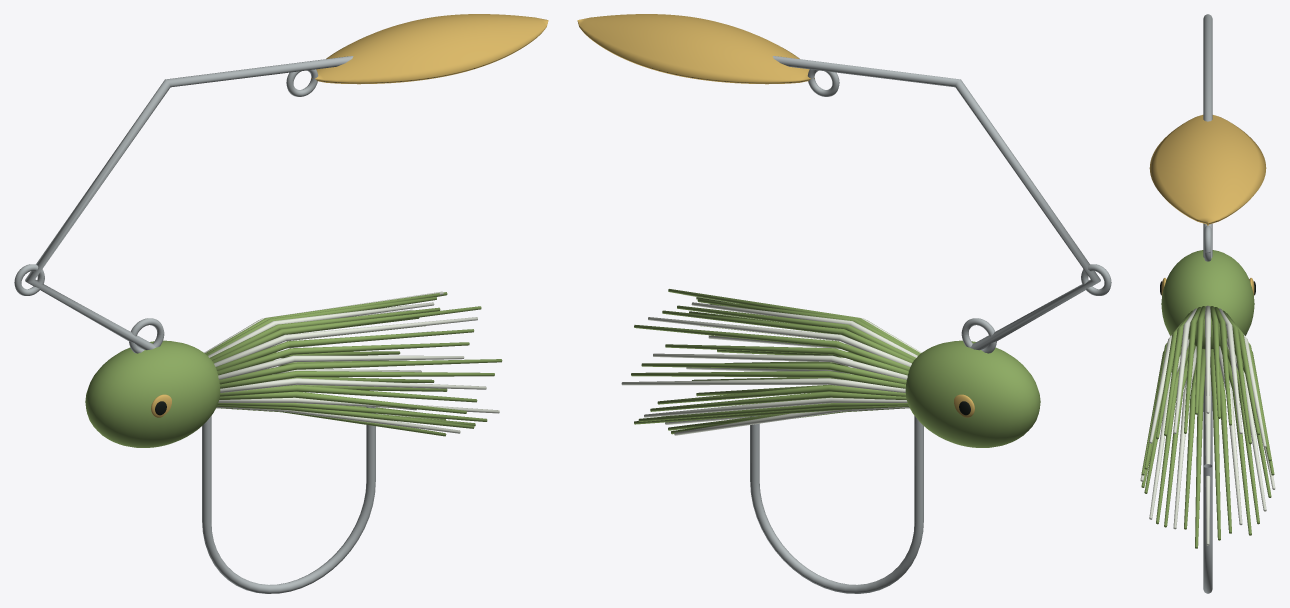
The model's file is spinnerbait.glb.
The picture shows the model from 3 angles, left to right: view 1: azimuth 30°, elevation 25°; view 2: azimuth 150°, elevation 25°; view 3: azimuth 270°, elevation 25°; orthographic projection. The views are drawn at different scales.
Parts seen in each view (by area): view 1: spinnerbait specimen; view 2: spinnerbait specimen; view 3: spinnerbait specimen.
Boxes of the visible parts, x1=… form: spinnerbait specimen: x1=14, y1=14, x2=548, y2=593; spinnerbait specimen: x1=577, y1=14, x2=1111, y2=593; spinnerbait specimen: x1=1140, y1=14, x2=1275, y2=593.
Bounding box in the file's own units: 1.51 × 1.46 × 0.3479.
